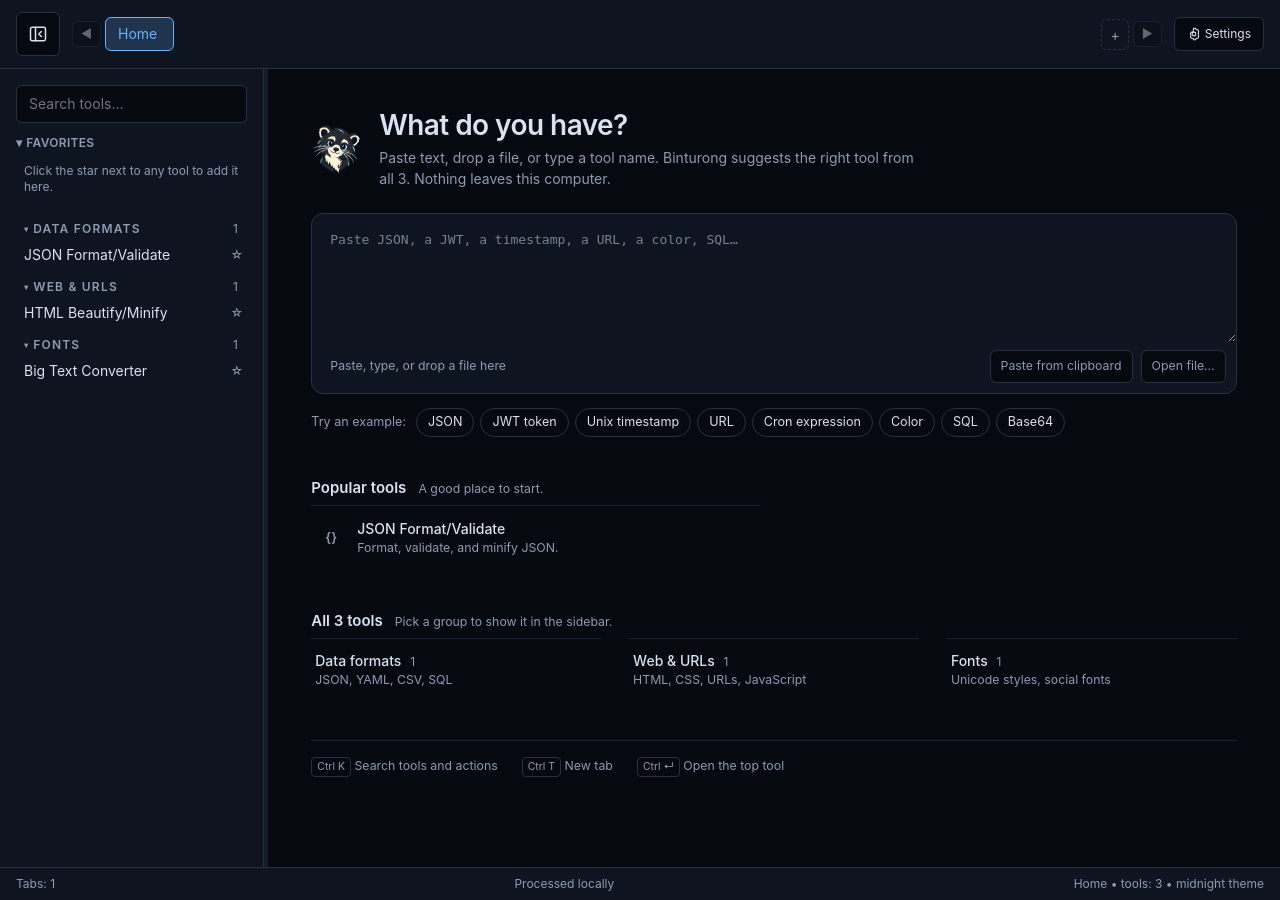
it: App UI › renders sidebar search input
This screenshot has width=1280, height=900.
Expected: the heading "What do you have?" is shown, [379, 108, 628, 142]
Click the button "JSON Format/Validate".
click(119, 255)  # box [16, 241, 222, 269]
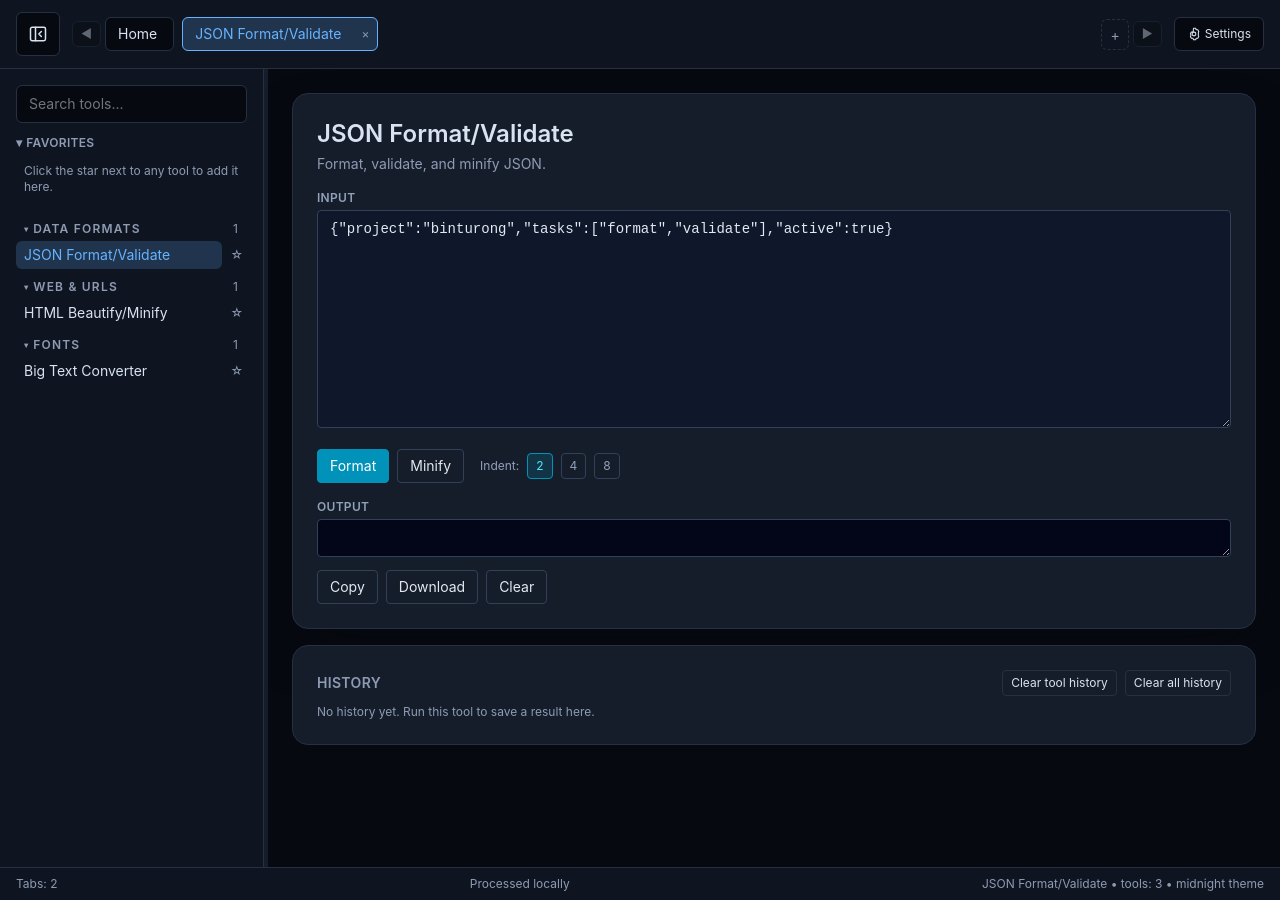
Expected: the field labelled "Search tools" is shown, [16, 85, 247, 123]
Now the heading "JSON Format/Validate" is shown, box [317, 119, 574, 148]
